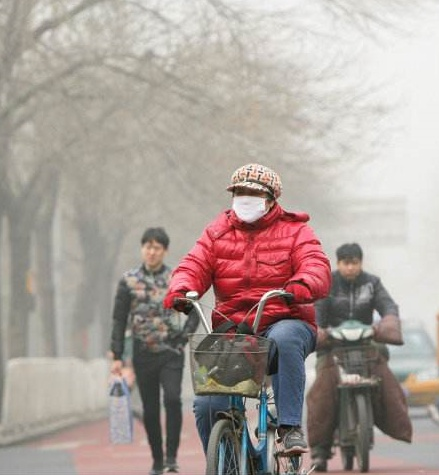person: (178, 165, 329, 462), (313, 244, 409, 468), (113, 223, 196, 475)
